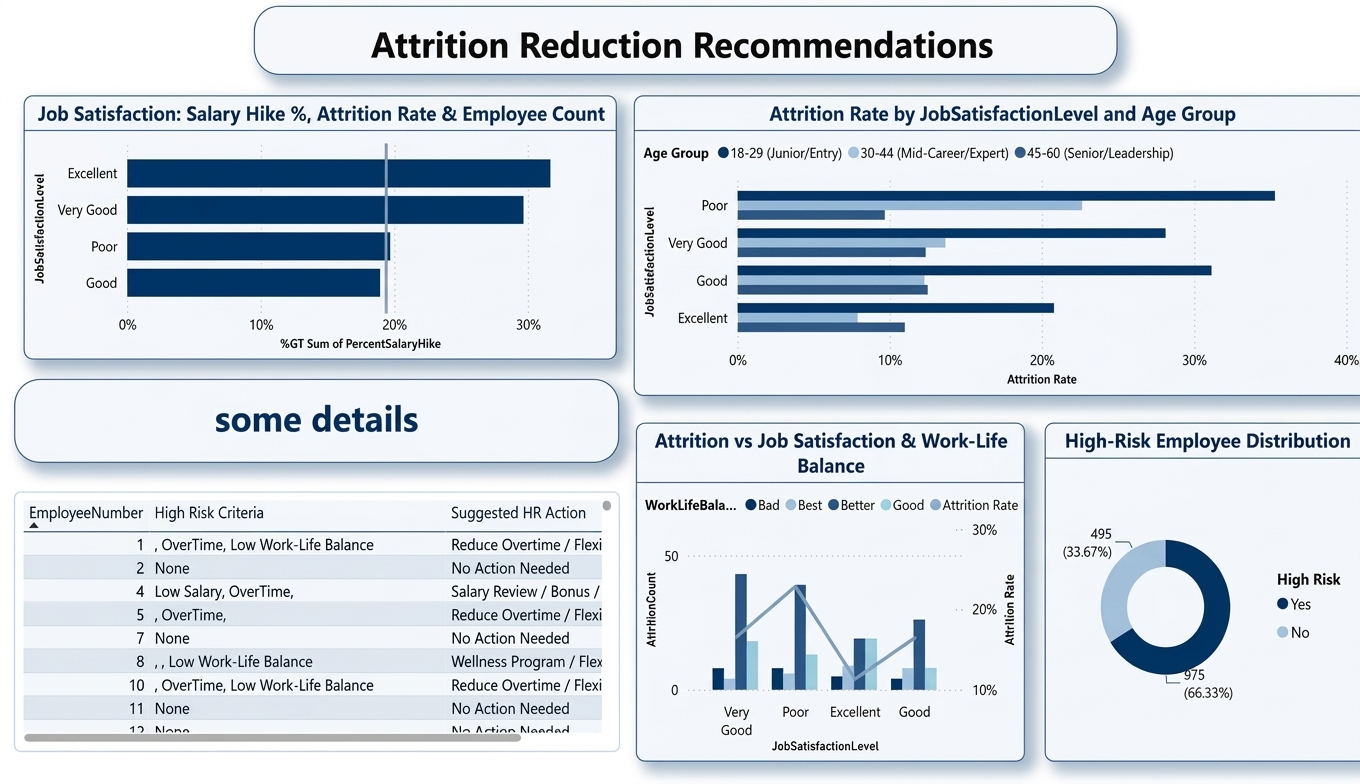

Layout of this report page (visuals, bound fields, positions):
{"tool":"powerbi","page":{"name":"Attrition Reduction Recommendations","canvas":[1280,720],"ordinal":4},"visuals":[{"type":"clusteredBarChart","title":"Job Satisfaction: Salary Hike %, Attrition Rate & Employee Count","fields":{"Y":["Sum(WA_Fn-UseC_-HR-Employee-Attrition.PercentSalaryHike)"],"Category":["WA_Fn-UseC_-HR-Employee-Attrition.JobSatisfactionLevel"]},"box":[22.3,90.4,553.7,237.9],"z":1000},{"type":"lineClusteredColumnComboChart","title":"Attrition vs Job Satisfaction & Work-Life Balance","fields":{"Category":["WA_Fn-UseC_-HR-Employee-Attrition.JobSatisfactionLevel"],"Series":["HrData.WorkLifeBalance Label"],"Y2":["_calculations.Attrition Rate"],"Y":["_calculations.AttritionCount"]},"box":[591.4,384.3,365.7,304.3],"z":2000},{"type":"tableEx","fields":{"Values":["HrData.EmployeeNumber","HrData.High Risk Criteria","HrData.Suggested HR Action"]},"box":[12.5,446.6,563.5,233.7],"z":3000},{"type":"textbox","box":[236.5,9.7,808.3,62.6],"z":4000},{"type":"textbox","box":[12.5,345,563.5,75.1],"z":5000},{"type":"donutChart","title":"High-Risk Employee Distribution","fields":{"Y":["_calculations.Employees per High Risk Flag"],"Category":["HrData.High Risk"]},"box":[975.7,384.3,304.3,304.3],"z":6000},{"type":"clusteredBarChart","fields":{"Category":["WA_Fn-UseC_-HR-Employee-Attrition.JobSatisfactionLevel"],"Series":["HrData.Age Group"],"Y":["_calculations.Attrition Rate"]},"box":[591.4,90,688.6,270],"z":7000}]}

Visuals, with their boxes in screenshot pixels (x1, y1, x2, y2), scaled from the page's 1280x720 canvas onto the 1360x784 screenshot:
"Job Satisfaction: Salary Hike %, Attrition Rate & Employee Count" clusteredBarChart: [24, 98, 612, 357]
"Attrition vs Job Satisfaction & Work-Life Balance" lineClusteredColumnComboChart: [628, 418, 1017, 750]
tableEx - HrData.EmployeeNumber x HrData.High Risk Criteria: [13, 486, 612, 741]
textbox: [251, 11, 1110, 79]
textbox: [13, 376, 612, 457]
"High-Risk Employee Distribution" donutChart: [1037, 418, 1359, 750]
clusteredBarChart - WA_Fn-UseC_-HR-Employee-Attrition.JobSatisfactionLevel x HrData.Age Group: [628, 98, 1359, 392]
